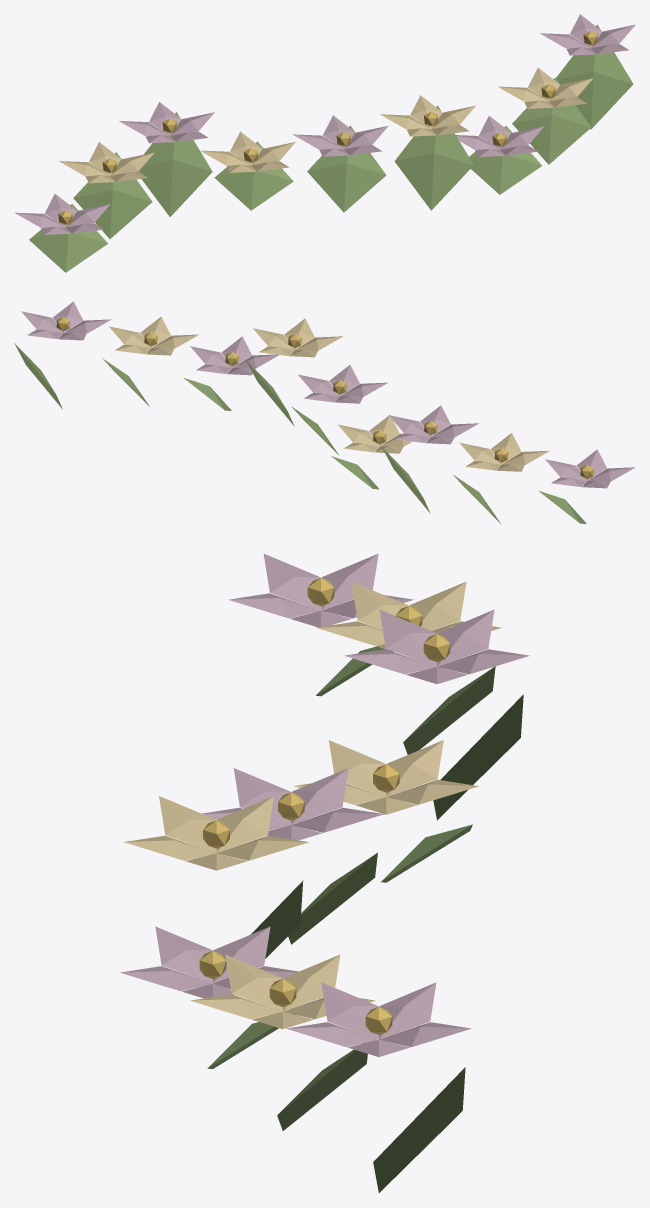
Rendered from map-exclusive-v3__meadow_14.glb.
3 views of the same model, one above another, from view 1: azimuth 30°, elevation 25°; view 2: azimuth 150°, elevation 25°; view 3: azimuth 270°, elevation 25° (orthographic). The views are drawn at different scales.
Parts seen in each view (by area): view 1: meadow_14; view 2: meadow_14; view 3: meadow_14.
Boxes of the visible parts, x1,y1,x2,y2 form: meadow_14: (14, 14, 635, 272); meadow_14: (14, 301, 635, 524); meadow_14: (120, 553, 529, 1192).
Size of the model in its own units: 3.59 by 0.5466 by 1.09.
